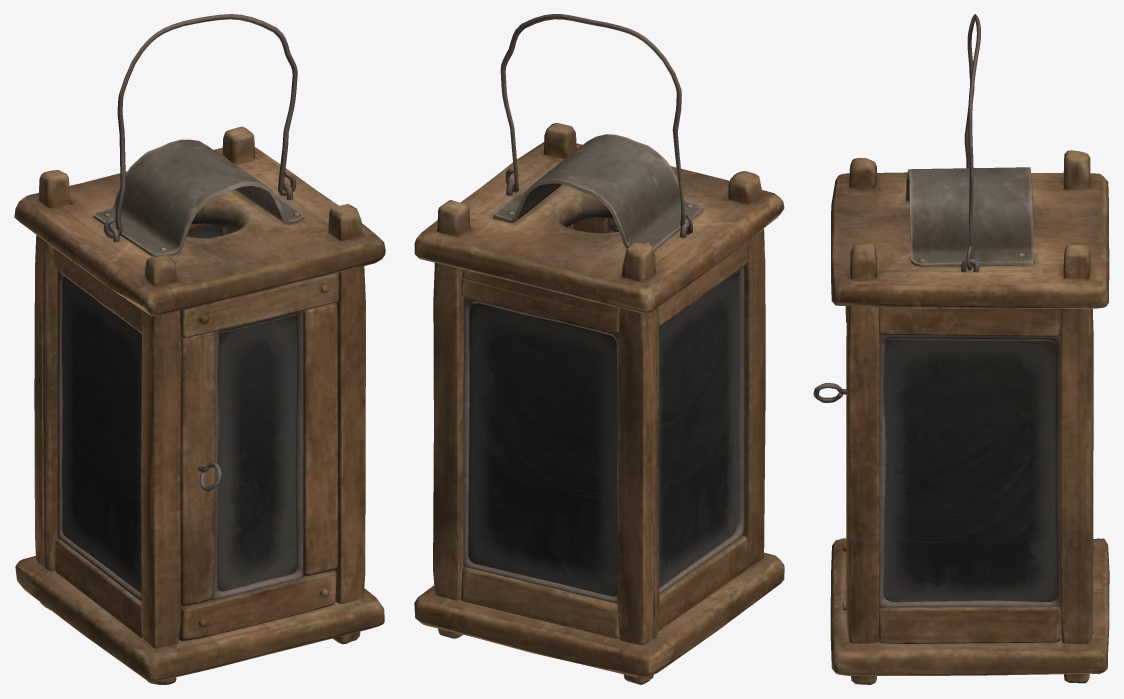
Rendered from wooden_lantern_01.glb.
The picture shows the model from 3 angles, left to right: view 1: azimuth 30°, elevation 25°; view 2: azimuth 150°, elevation 25°; view 3: azimuth 270°, elevation 25°; orthographic projection.
Visible parts, largest first — view 1: wooden_lantern_01, wooden_lantern_01_door, wooden_lantern_01_handle; view 2: wooden_lantern_01, wooden_lantern_01_handle, wooden_lantern_01_door; view 3: wooden_lantern_01, wooden_lantern_01_handle, wooden_lantern_01_door.
Boxes of the visible parts, box(x1,y1,x2,y2) form: wooden_lantern_01: box(14, 126, 385, 684); wooden_lantern_01_door: box(179, 272, 339, 641); wooden_lantern_01_handle: box(103, 14, 297, 238); wooden_lantern_01: box(414, 122, 784, 684); wooden_lantern_01_handle: box(500, 14, 692, 234); wooden_lantern_01_door: box(573, 217, 618, 233); wooden_lantern_01: box(830, 150, 1109, 684); wooden_lantern_01_handle: box(964, 14, 980, 270); wooden_lantern_01_door: box(813, 306, 847, 610).
Size of the model in its own units: 0.2211 by 0.5301 by 0.2347.
Materials: 2 (2 with a texture image).
